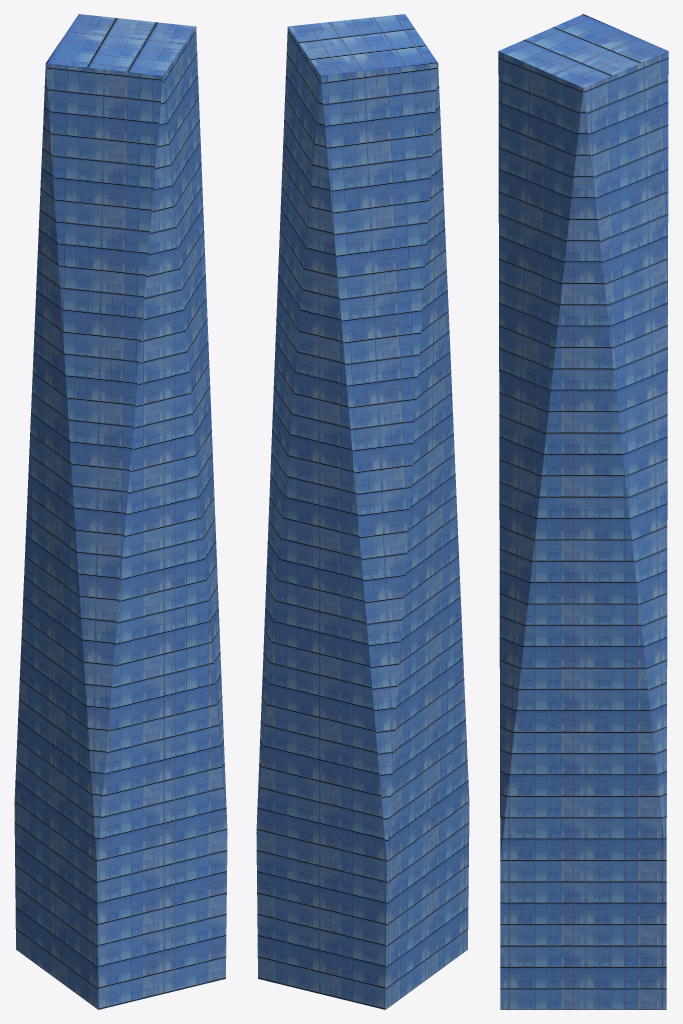
3 renders of one model, left to right at view 1: azimuth 30°, elevation 25°; view 2: azimuth 150°, elevation 25°; view 3: azimuth 270°, elevation 25°, orthographic.
Parts seen in each view (by area): view 1: tower_one; view 2: tower_one; view 3: tower_one.
Boxes of the visible parts, bbox=[...] form: tower_one: bbox=[14, 14, 227, 1009]; tower_one: bbox=[256, 14, 469, 1009]; tower_one: bbox=[498, 14, 668, 1009].
Bounding box in the file's own units: 2639 × 15411 × 2561.
2 materials, 1 textured.
